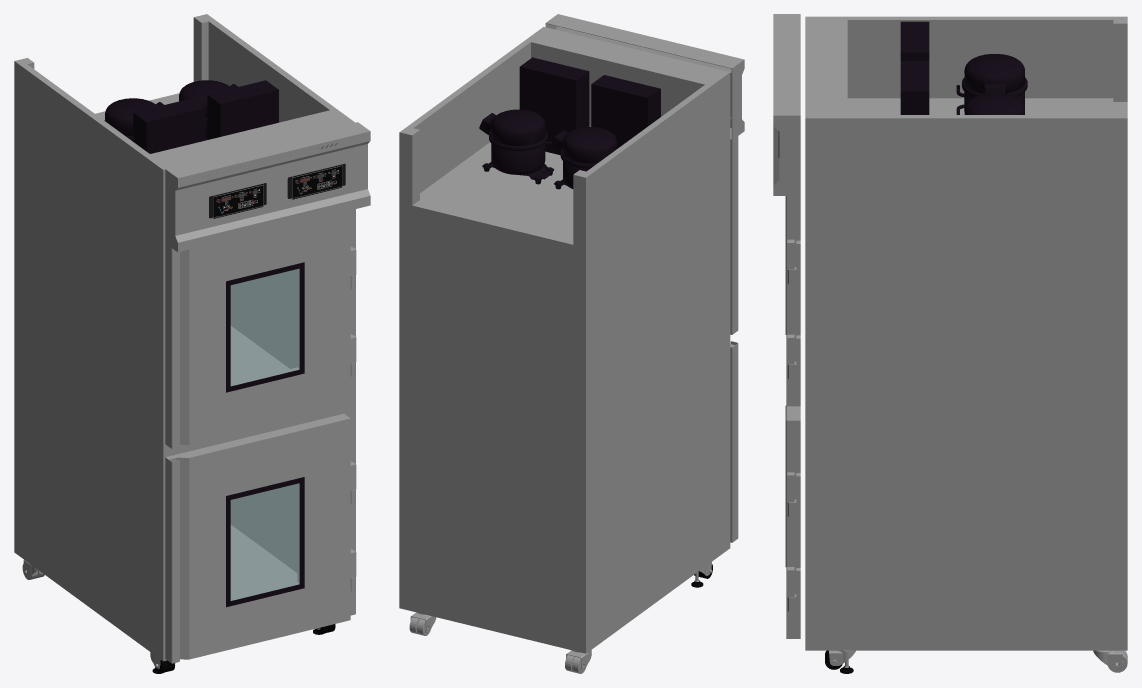
The picture shows the model from 3 angles, left to right: view 1: azimuth 30°, elevation 25°; view 2: azimuth 150°, elevation 25°; view 3: azimuth 270°, elevation 25°; orthographic projection. The views are drawn at different scales.
Parts seen in each view (by area): view 1: 16FT 3D BLENDER, PUERTAS, CUBIERTA COMPONENTES ELECTRICOS, CRISTAL, COMPRESOR, MARCO DE CRISTAL, PANEL DE CONTROL.001, PANEL DE CONTROL, BISAGRAS; view 2: 16FT 3D BLENDER, COMPRESOR, CUBIERTA COMPONENTES ELECTRICOS, PUERTAS, RUEDAS INOX; view 3: 16FT 3D BLENDER, COMPRESOR, CUBIERTA COMPONENTES ELECTRICOS, PUERTAS, BISAGRAS, RUEDAS INOX, MARCO DE CRISTAL.
Part boxes in pixels (x1,y1,x2,y2): 16FT 3D BLENDER: [14, 14, 355, 661]; PUERTAS: [165, 210, 350, 663]; CUBIERTA COMPONENTES ELECTRICOS: [165, 122, 370, 252]; CRISTAL: [230, 269, 299, 600]; COMPRESOR: [104, 80, 278, 153]; MARCO DE CRISTAL: [226, 262, 304, 607]; PANEL DE CONTROL.001: [292, 164, 342, 199]; PANEL DE CONTROL: [213, 183, 263, 218]; BISAGRAS: [350, 246, 356, 591]; 16FT 3D BLENDER: [399, 27, 730, 653]; COMPRESOR: [479, 57, 660, 189]; CUBIERTA COMPONENTES ELECTRICOS: [545, 14, 744, 139]; PUERTAS: [730, 136, 738, 542]; RUEDAS INOX: [409, 562, 712, 673]; 16FT 3D BLENDER: [805, 16, 1127, 650]; COMPRESOR: [900, 21, 1027, 114]; CUBIERTA COMPONENTES ELECTRICOS: [773, 14, 800, 195]; PUERTAS: [786, 196, 800, 638]; BISAGRAS: [787, 239, 800, 611]; RUEDAS INOX: [829, 650, 1127, 672]; MARCO DE CRISTAL: [785, 196, 786, 566].
Bounding box in the file's own units: 0.835 × 2.19 × 1.23.
6 materials, 1 textured.
